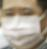with_mask: (1, 2, 47, 49)
